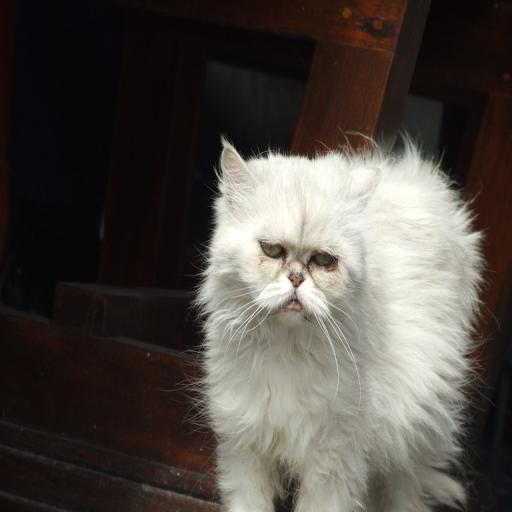cat: (183, 131, 489, 512)
